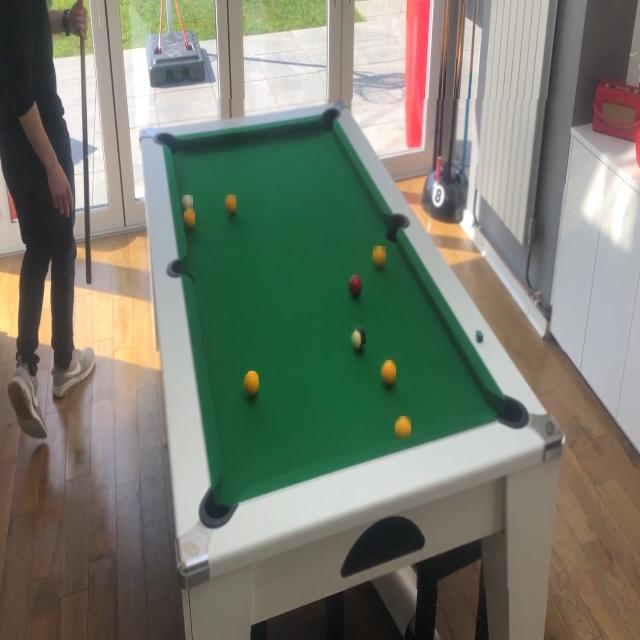Ball: (382, 360, 397, 388), (352, 326, 366, 352), (246, 372, 259, 398), (396, 416, 411, 438), (373, 246, 386, 268), (350, 275, 362, 297), (185, 210, 195, 231), (226, 195, 236, 216), (183, 196, 193, 212)
Billiard table: (140, 99, 566, 589)
